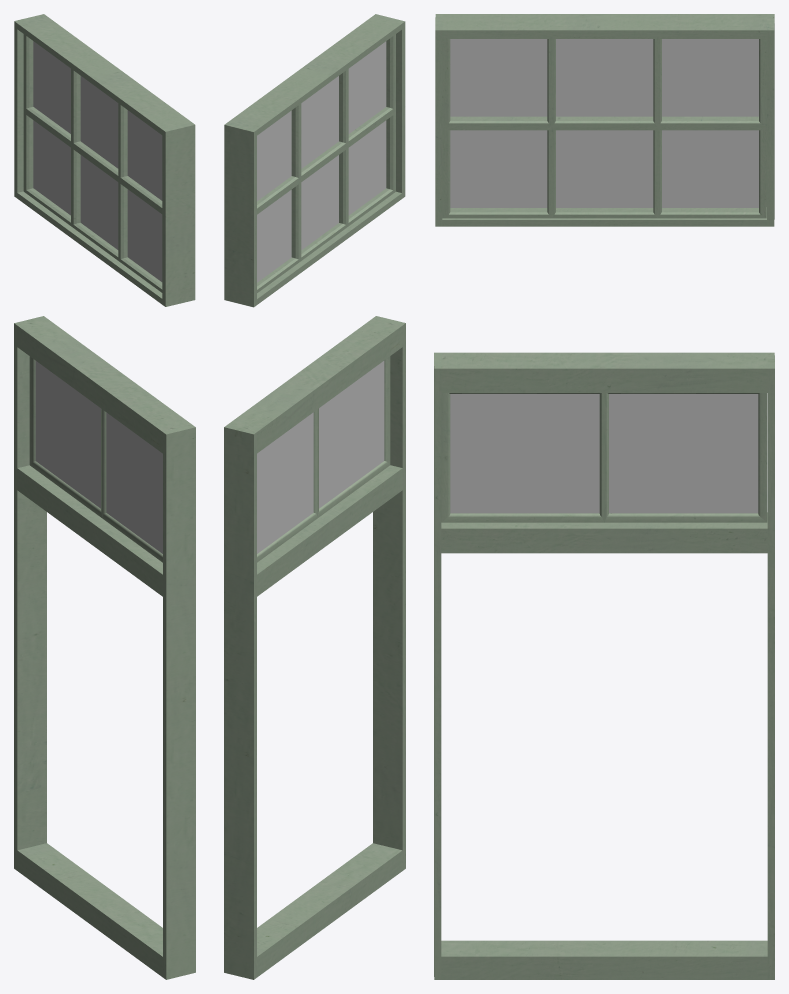
The model's file is SM_WW24_Frame.fbx.
The picture shows the model from 3 angles, left to right: view 1: azimuth 30°, elevation 25°; view 2: azimuth 150°, elevation 25°; view 3: azimuth 270°, elevation 25°; orthographic projection. The views are drawn at different scales.
Visible parts, largest first — view 1: SM_WW24_Frame; view 2: SM_WW24_Frame; view 3: SM_WW24_Frame.
Boxes of the visible parts, x1,y1,x2,y2 form: SM_WW24_Frame: (14,14,195,979); SM_WW24_Frame: (224,14,405,979); SM_WW24_Frame: (434,14,774,979).
Size of the model in its own units: 17.35 by 154 by 473.
2 materials, 1 textured.
